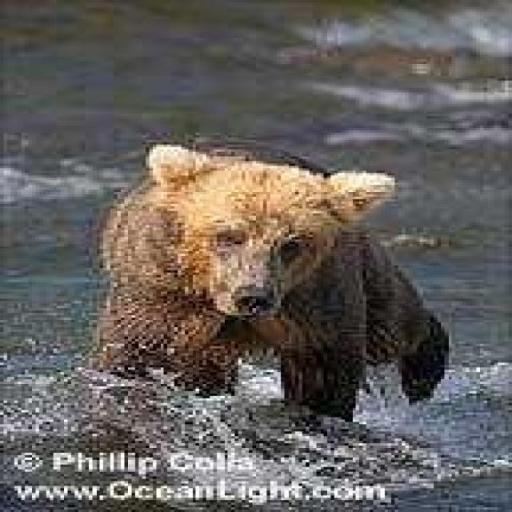Bear: (82, 140, 448, 422)
